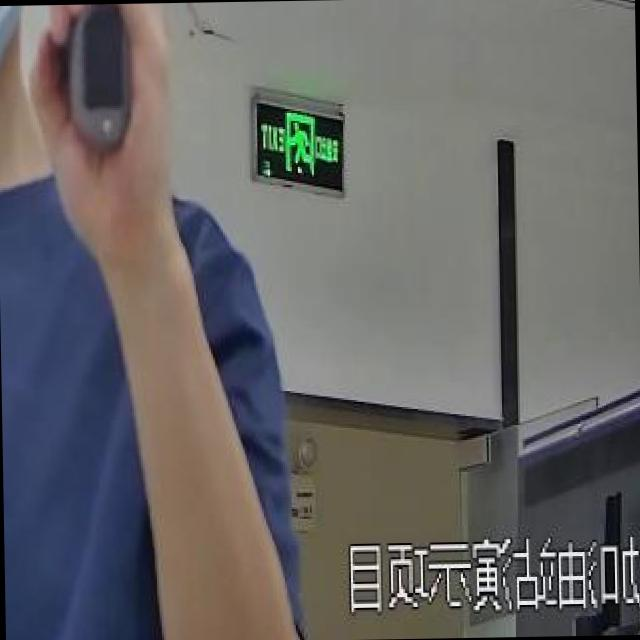Guns: (0, 2, 175, 201)
